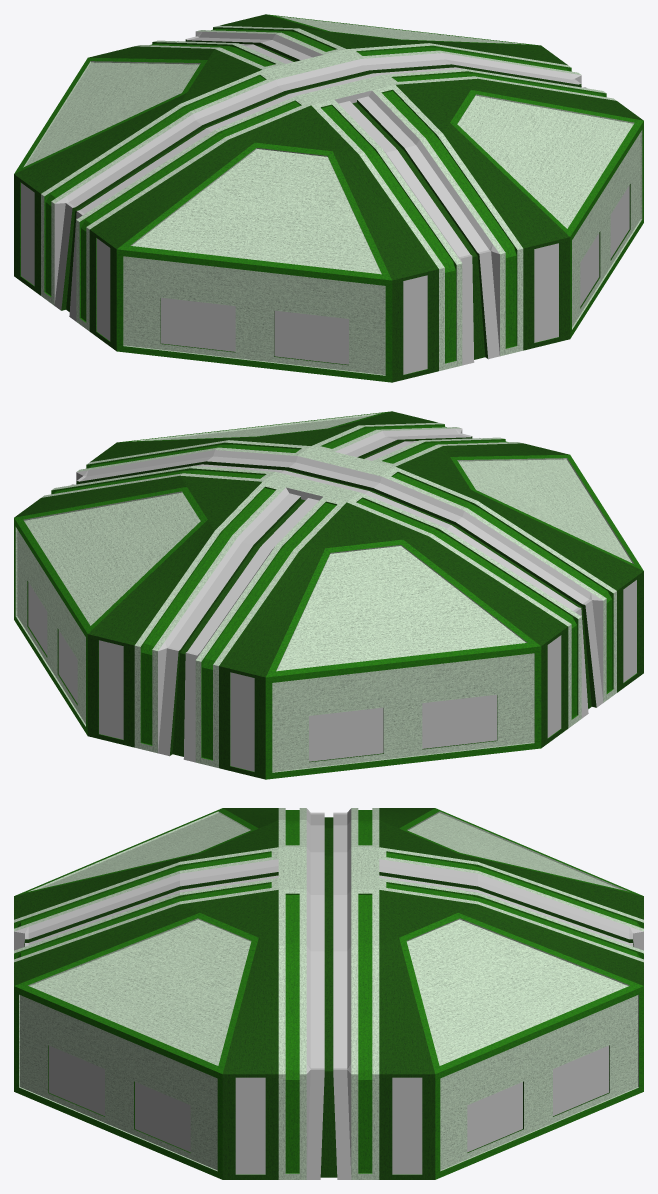
Rendered from lab.fbx.
3 renders of one model, top to bottom at view 1: azimuth 30°, elevation 25°; view 2: azimuth 150°, elevation 25°; view 3: azimuth 270°, elevation 25°, orthographic. The views are drawn at different scales.
Parts seen in each view (by area): view 1: lab; view 2: lab; view 3: lab.
Part boxes in pixels (box(x1,y1,x2,y2)): lab: box(14, 14, 643, 382); lab: box(14, 411, 643, 779); lab: box(14, 808, 643, 1179).
Size of the model in its own units: 14.34 by 4.48 by 14.34.
